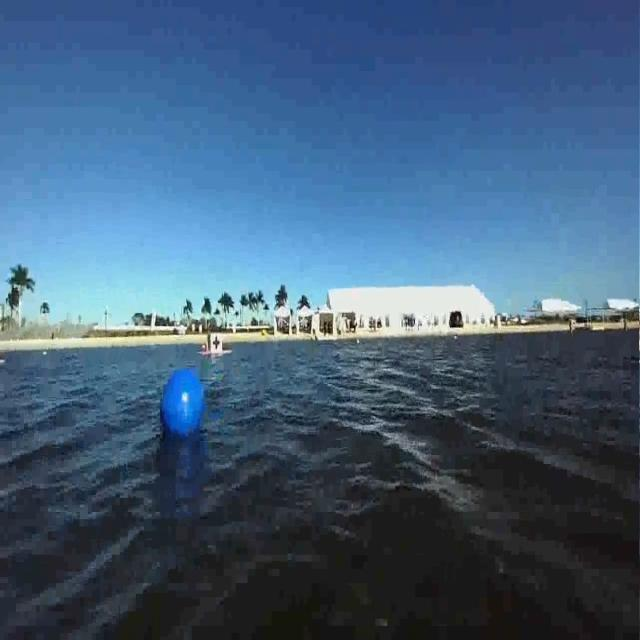blue-buoy: (156, 356, 211, 448)
